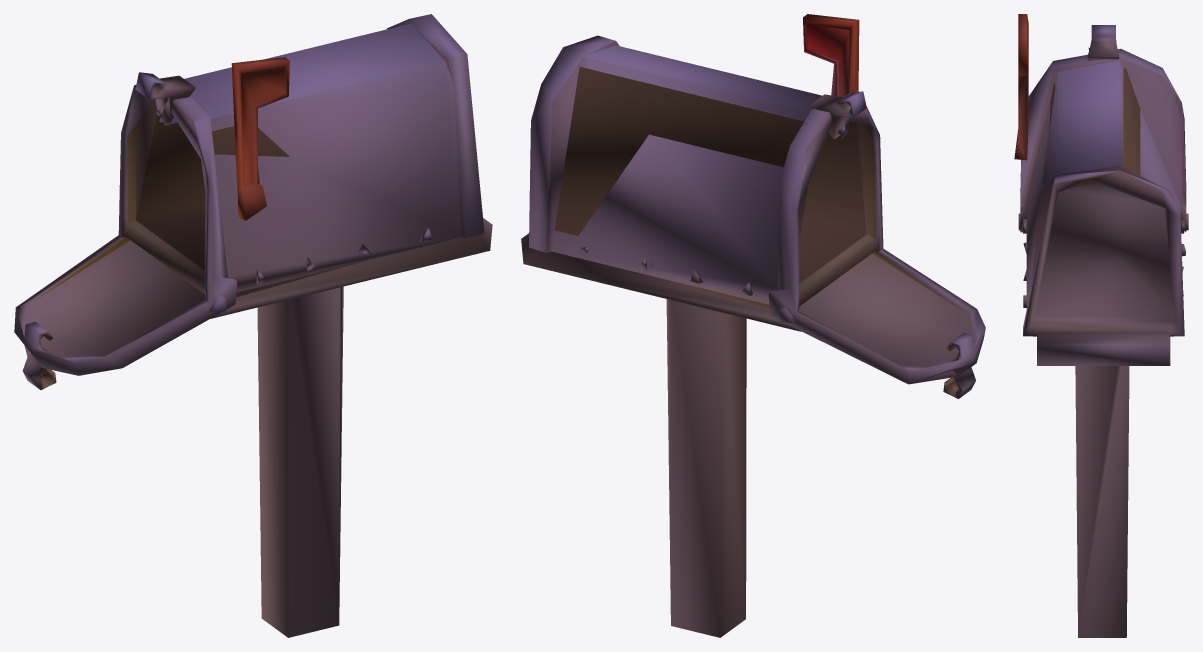
Rendered from model.progressive.glb.
The picture shows the model from 3 angles, left to right: view 1: azimuth 30°, elevation 25°; view 2: azimuth 150°, elevation 25°; view 3: azimuth 270°, elevation 25°; orthographic projection. The views are drawn at different scales.
Visible parts, largest first — view 1: material; view 2: material; view 3: material.
Part boxes in pixels (x1=…): material: x1=14, y1=14, x2=492, y2=637; material: x1=521, y1=14, x2=985, y2=637; material: x1=1014, y1=14, x2=1188, y2=637.
Bounding box in the file's own units: 1.38 × 1.89 × 0.5302.
Materials: 1 (1 with a texture image).
